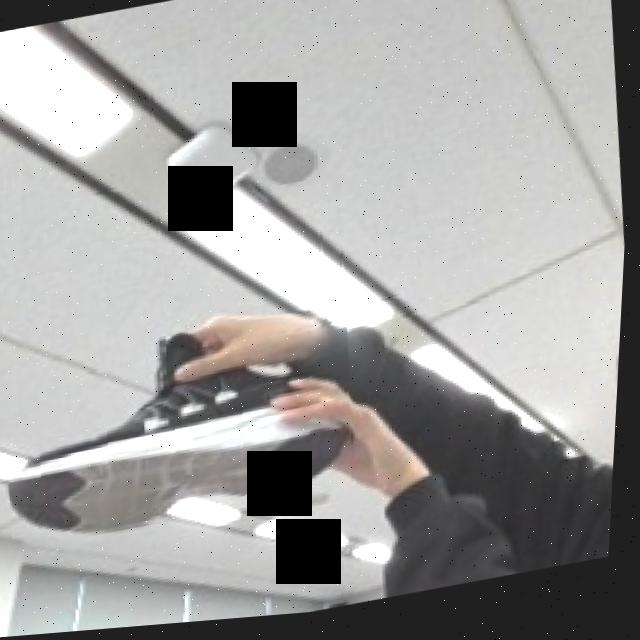shoe: (0, 307, 369, 552)
